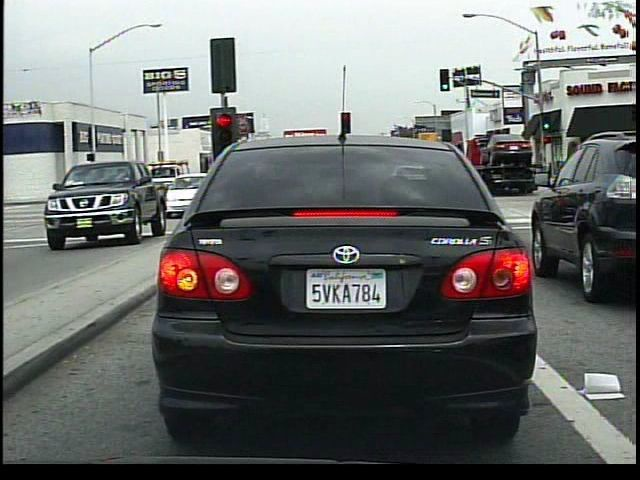person: (174, 169, 195, 194)
